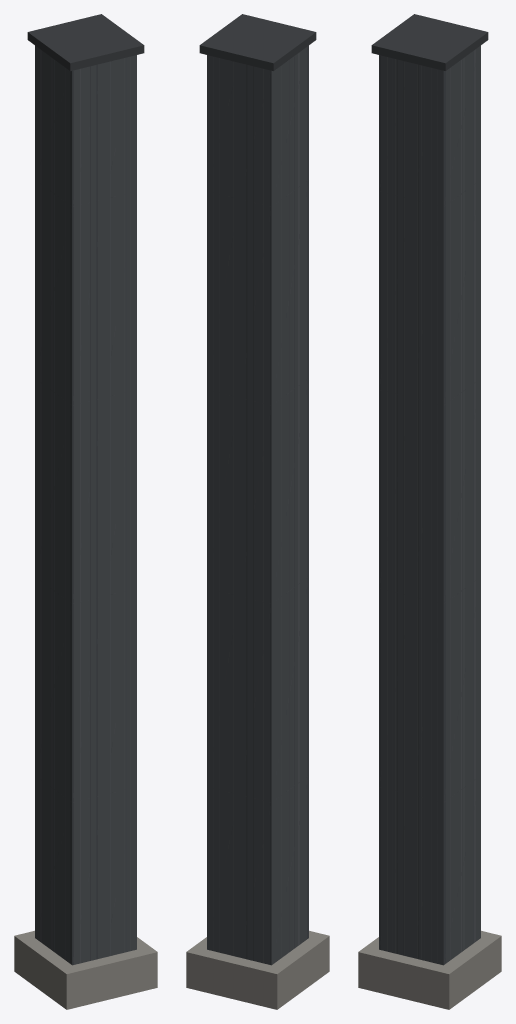
File: MinidoracatKnoxPass_gatepost_A.glb
The picture shows the model from 3 angles, left to right: view 1: azimuth 30°, elevation 25°; view 2: azimuth 150°, elevation 25°; view 3: azimuth 330°, elevation 25°; orthographic projection.
Visible parts, largest first — view 1: MinidoracatKnoxPass_gatepost_A; view 2: MinidoracatKnoxPass_gatepost_A; view 3: MinidoracatKnoxPass_gatepost_A.
Boxes of the visible parts, left/top/right/bottom form: MinidoracatKnoxPass_gatepost_A: left=14, top=14, right=157, bottom=1009; MinidoracatKnoxPass_gatepost_A: left=186, top=14, right=329, bottom=1009; MinidoracatKnoxPass_gatepost_A: left=358, top=14, right=501, bottom=1009.
Size of the model in its own units: 0.48 by 4.74 by 0.48.
1 material, 1 textured.
